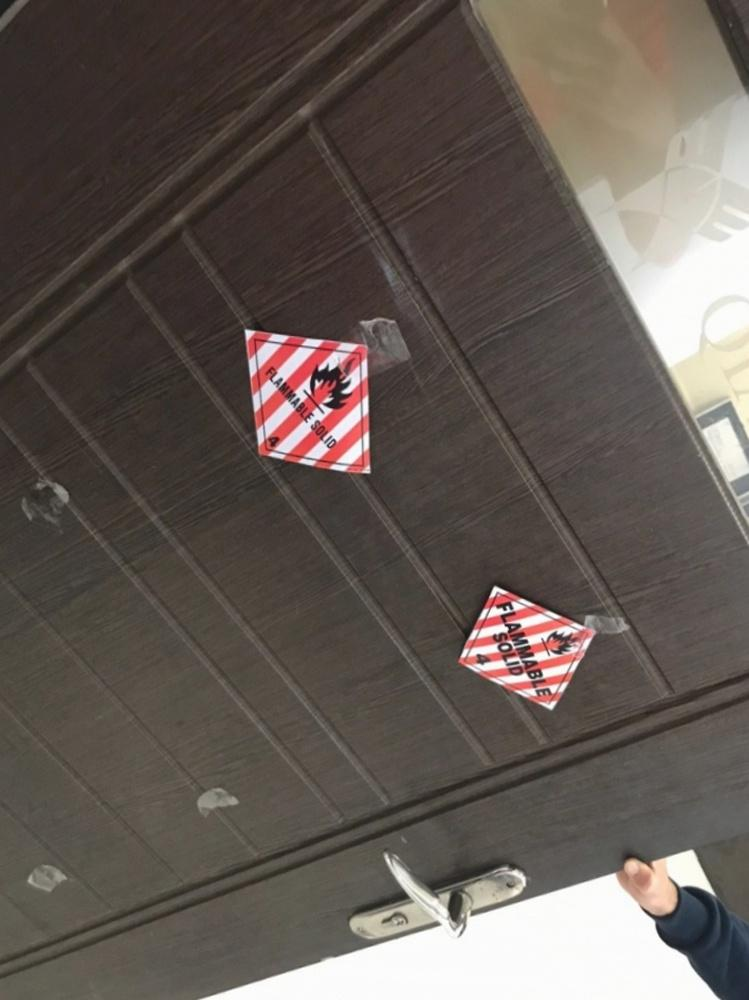flammable-solid: (242, 320, 372, 480), (458, 580, 595, 716)
